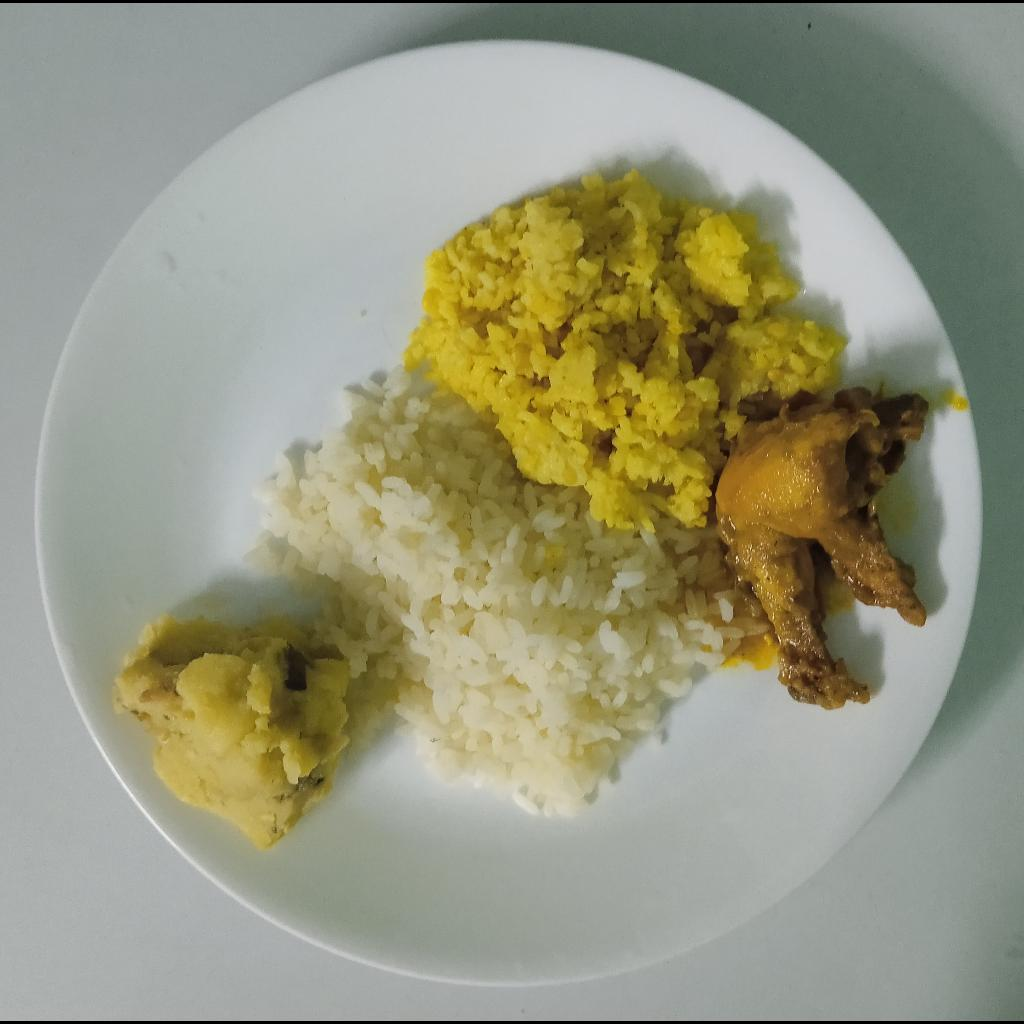chicken: (719, 385, 930, 704)
khichuri: (400, 170, 847, 532)
potato-mashed: (112, 615, 354, 852)
rice: (244, 372, 755, 819)
